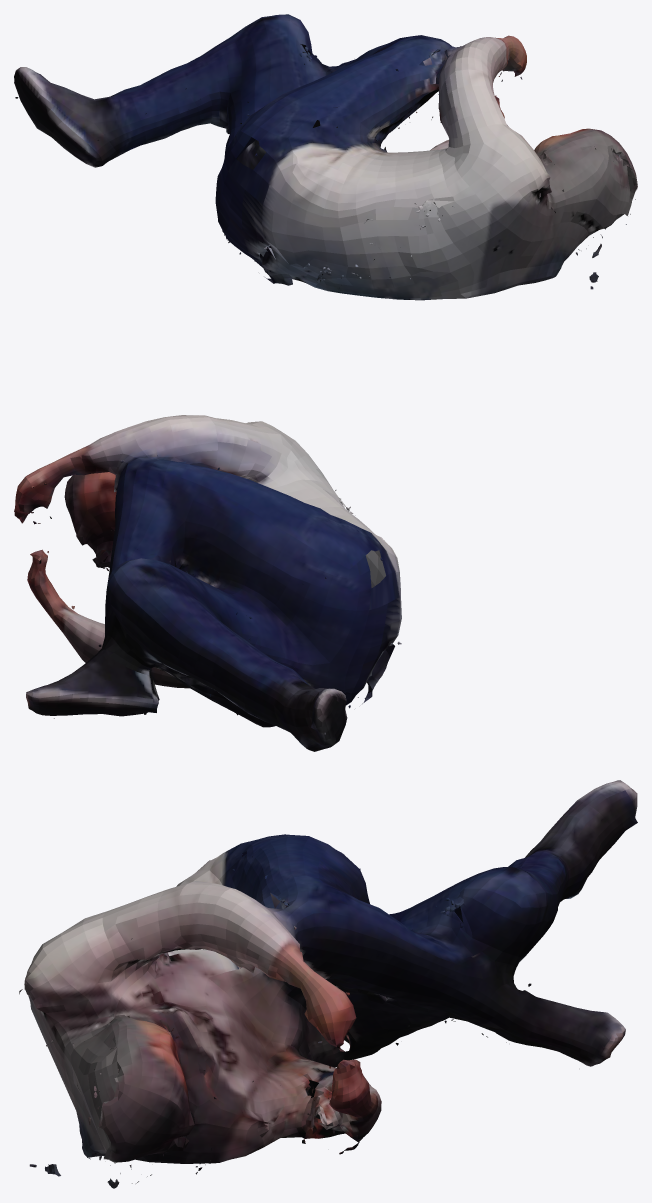
The model's file is AB-death_0000087.obj.
The picture shows the model from 3 angles, top to bottom: view 1: azimuth 30°, elevation 25°; view 2: azimuth 150°, elevation 25°; view 3: azimuth 270°, elevation 25°; orthographic projection. The views are drawn at different scales.
Visible parts, largest first — view 1: Retopo_frame_0000087_mesh; view 2: Retopo_frame_0000087_mesh; view 3: Retopo_frame_0000087_mesh.
Part boxes in pixels (box(x1,y1,x2,y2)): Retopo_frame_0000087_mesh: box(14, 14, 637, 300); Retopo_frame_0000087_mesh: box(14, 415, 401, 751); Retopo_frame_0000087_mesh: box(19, 780, 637, 1188).
Size of the model in its own units: 1.14 by 0.4622 by 1.03.
Materials: 1 (1 with a texture image).
